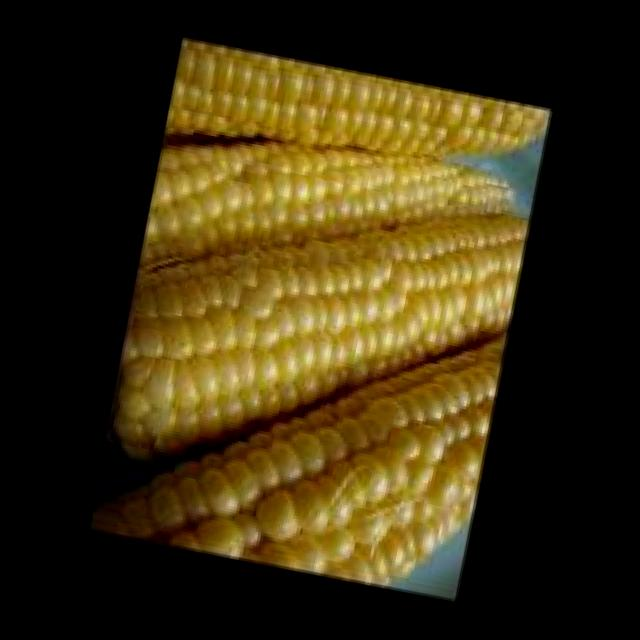corn: (90, 41, 550, 588)
